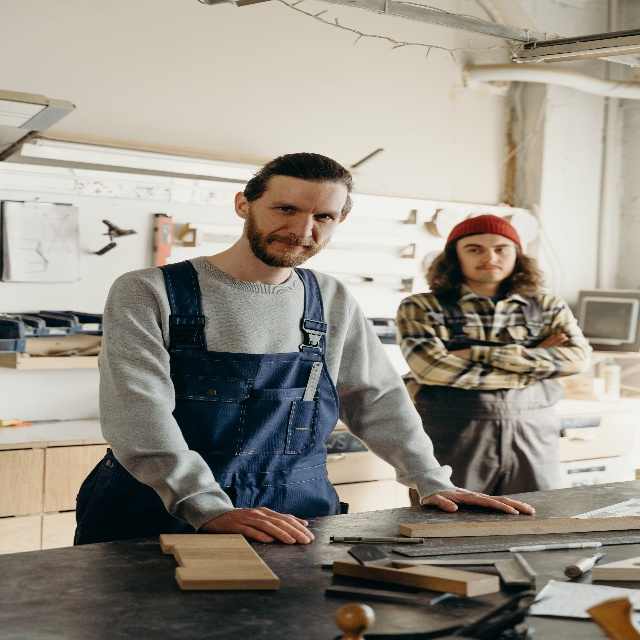Sin_guantes: (205, 512, 314, 547), (424, 486, 535, 512), (537, 329, 569, 345)
